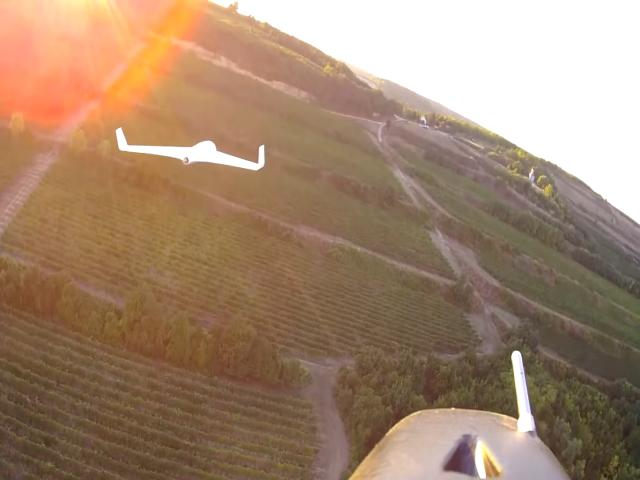plane: (115, 125, 265, 174)
